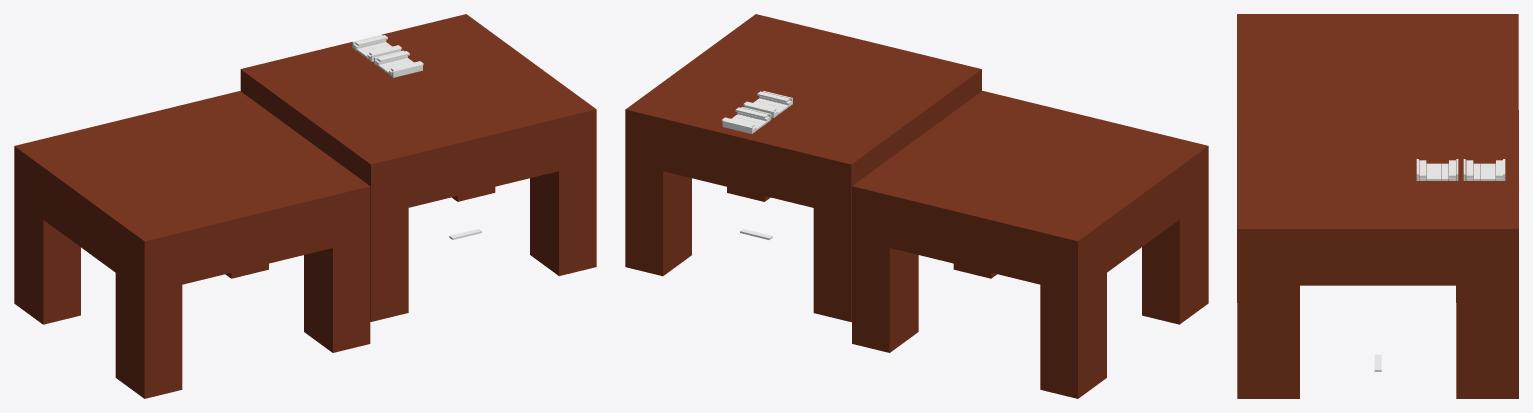
The model's file is keva_double_station.dae.
3 renders of one model, left to right at view 1: azimuth 30°, elevation 25°; view 2: azimuth 150°, elevation 25°; view 3: azimuth 270°, elevation 25°, orthographic. The views are drawn at different scales.
Parts seen in each view (by area): view 1: base (×7); view 2: base (×7); view 3: base (×4).
Boxes of the visible parts, x1,y1,x2,y2 form: base (×7): (14,14,596,398); base (×7): (625,14,1208,398); base (×4): (1237,14,1518,398).
Size of the model in its own units: 1.8 by 0.9009 by 0.7055.
